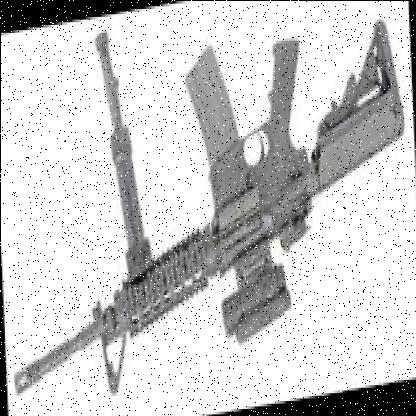rifle: (0, 16, 414, 414)
